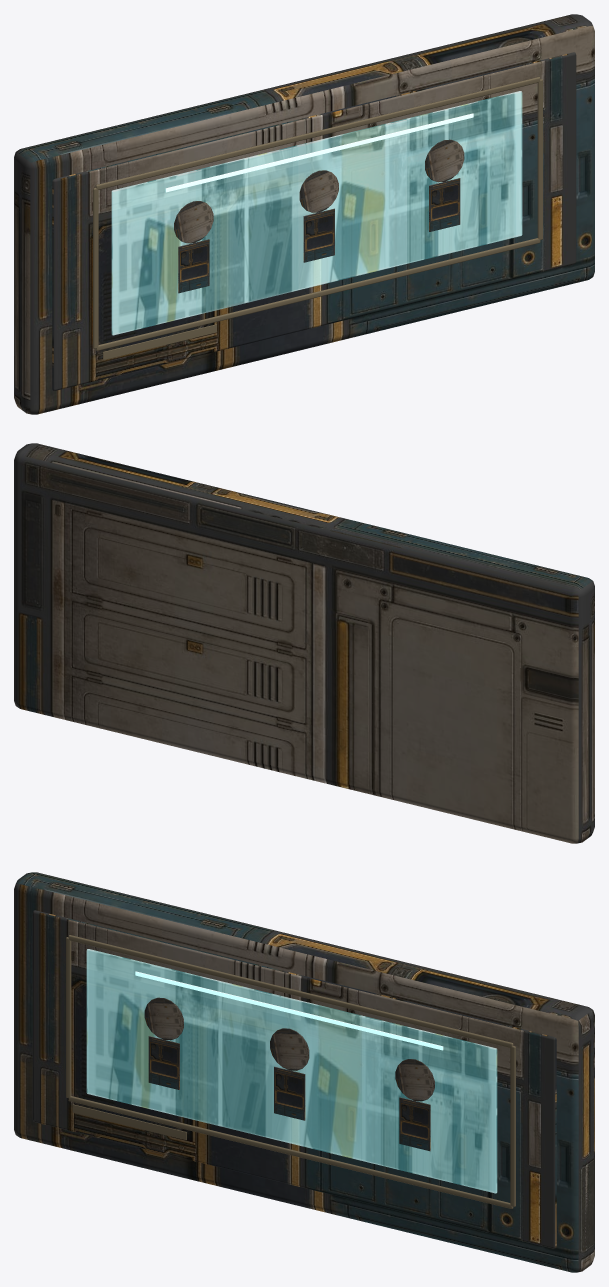
The model's file is hp_room_residential_observation_window.glb.
3 renders of one model, top to bottom at view 1: azimuth 30°, elevation 25°; view 2: azimuth 150°, elevation 25°; view 3: azimuth 330°, elevation 25°, orthographic.
Visible parts, largest first — view 1: inset_cool_wall_surround, smoked_lab_window_glass, observation_wall_backplate, observation_frame_top, observation_frame_bottom, cyan_one_way_glass_scan, absent_observer_body_0, absent_observer_body_1, absent_observer_body_2, absent_observer_head_1, absent_observer_head_0, absent_observer_head_2 (+3 smaller); view 2: observation_wall_backplate; view 3: inset_cool_wall_surround, smoked_lab_window_glass, observation_wall_backplate, observation_frame_top, observation_frame_bottom, cyan_one_way_glass_scan, absent_observer_body_1, absent_observer_body_2, absent_observer_body_0, absent_observer_head_1, absent_observer_head_2, absent_observer_head_0 (+3 smaller).
Part boxes in pixels (x1,y1,x2,y2): inset_cool_wall_surround: (52, 52, 576, 390); smoked_lab_window_glass: (111, 91, 522, 335); observation_wall_backplate: (14, 14, 594, 414); observation_frame_top: (95, 77, 540, 189); observation_frame_bottom: (95, 238, 540, 350); cyan_one_way_glass_scan: (165, 113, 473, 192); absent_observer_body_0: (178, 239, 209, 293); absent_observer_body_1: (303, 208, 334, 262); absent_observer_body_2: (429, 178, 460, 231); absent_observer_head_1: (299, 170, 338, 212); absent_observer_head_0: (174, 201, 213, 243); absent_observer_head_2: (425, 139, 464, 182); observation_wall_backplate: (14, 443, 594, 843); inset_cool_wall_surround: (32, 910, 556, 1248); smoked_lab_window_glass: (86, 949, 497, 1193); observation_wall_backplate: (14, 872, 594, 1272); observation_frame_top: (68, 935, 513, 1047); observation_frame_bottom: (68, 1096, 513, 1208); cyan_one_way_glass_scan: (135, 971, 443, 1050); absent_observer_body_1: (274, 1066, 305, 1120); absent_observer_body_2: (399, 1097, 430, 1151); absent_observer_body_0: (148, 1036, 179, 1089); absent_observer_head_1: (270, 1028, 309, 1070); absent_observer_head_2: (395, 1059, 434, 1101); absent_observer_head_0: (144, 997, 183, 1040).
Bounding box in the file's own units: 3.9 × 1.69 × 0.296.
Materials: 5 (3 with a texture image).
